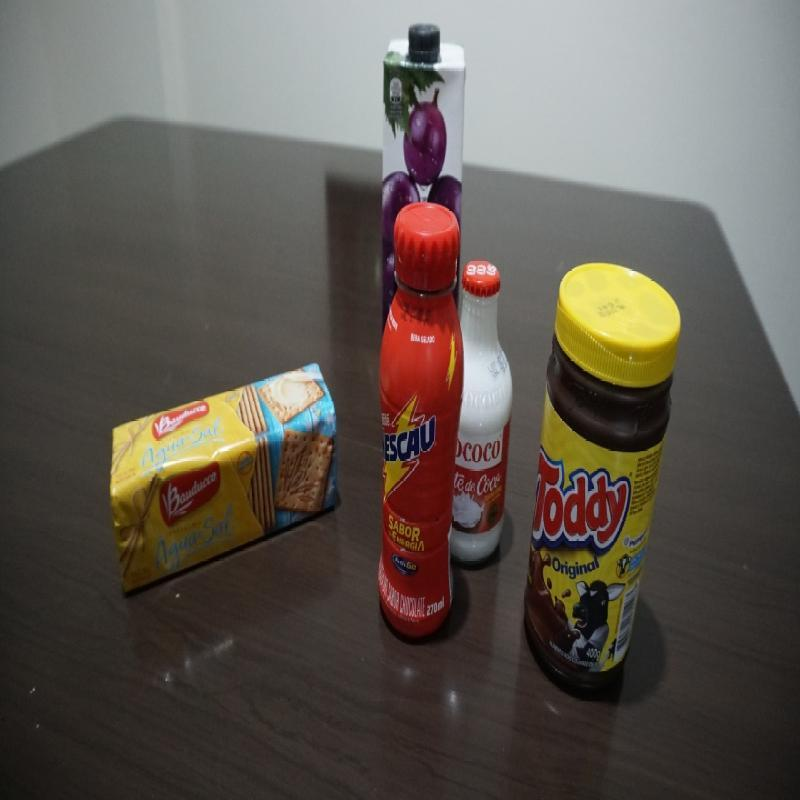Chocolate Milk: (374, 201, 462, 643)
Chocolate Powder: (523, 261, 682, 694)
Coconut Milk: (449, 257, 512, 567)
Cracker: (104, 361, 342, 601)
